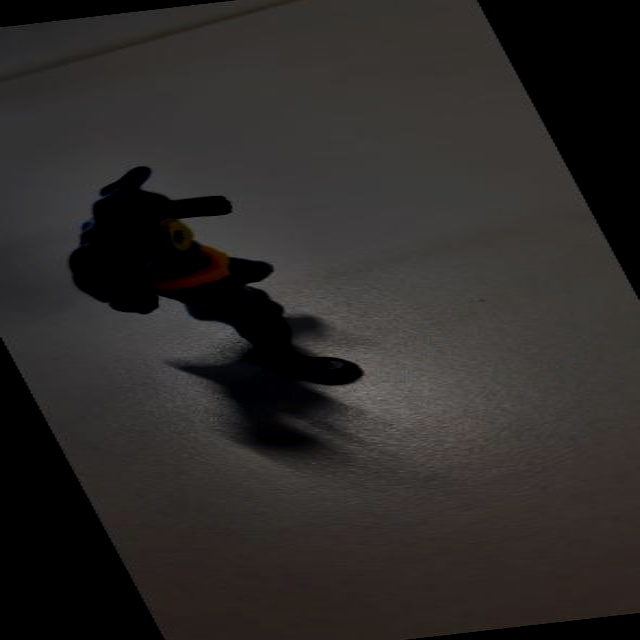Batman: (22, 150, 386, 412)
